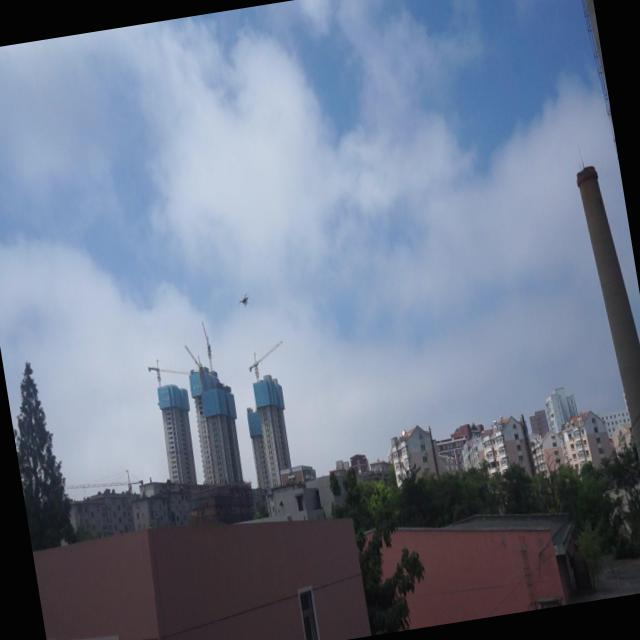drone: (238, 290, 252, 310)
